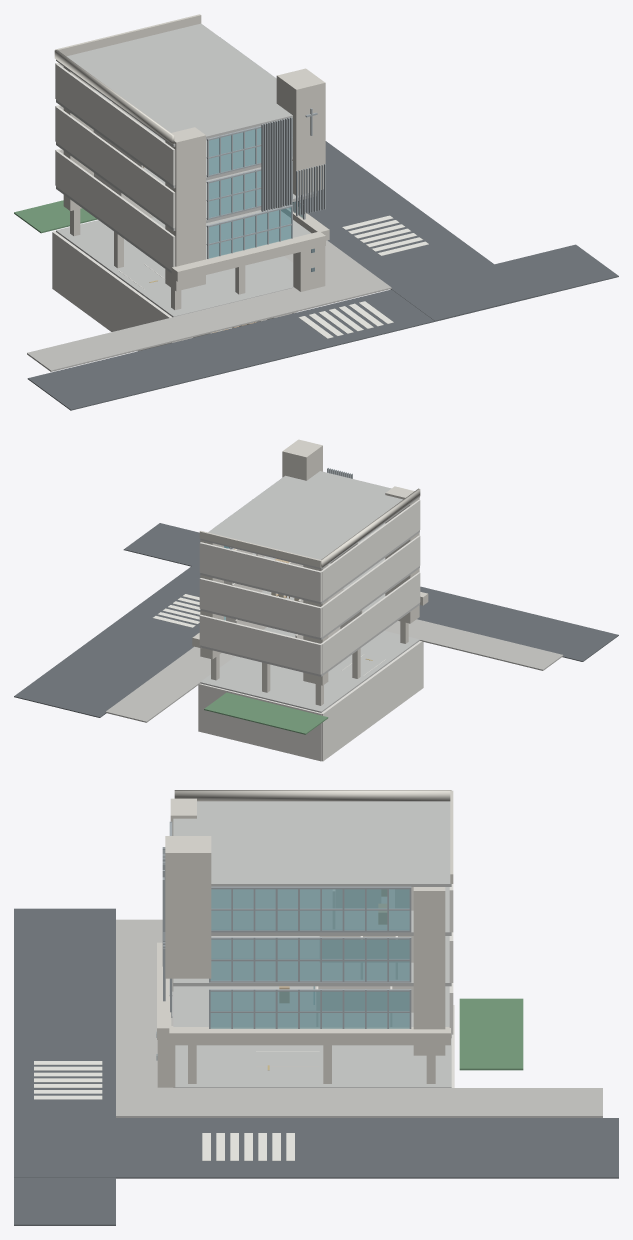
The model's file is mdcc.glb.
The picture shows the model from 3 angles, top to bottom: view 1: azimuth 30°, elevation 25°; view 2: azimuth 150°, elevation 25°; view 3: azimuth 270°, elevation 25°; orthographic projection. The views are drawn at different scales.
Parts seen in each view (by area): view 1: ROAD_FRONT, ROAD_RIGHT, ROOF_MAIN, SIDEWALK_FRONT, F1_PARKING_GROUND, B1_WEST_WALL, WEST_STONE_PIER, F4_WEST_EDGE, F3_WEST_EDGE, F2_WEST_EDGE, CROSS_TOWER_CORNER, F2_STRUCTURAL_SLAB (+11 smaller); view 2: ROAD_RIGHT, ROOF_MAIN, ROAD_FRONT, F1_PARKING_GROUND, B1_WEST_WALL, F2_BACK_PARAPET, F3_BACK_PARAPET, F4_BACK_PARAPET, B1_BACK_WALL, SIDEWALK_RIGHT, SIDEWALK_FRONT, F3_WEST_EDGE (+11 smaller); view 3: ROAD_RIGHT, ROAD_FRONT, ROOF_MAIN, SIDEWALK_RIGHT, F1_PARKING_GROUND, SIDEWALK_FRONT, F3_RIGHT_GLASS_GLASS, F4_RIGHT_GLASS_GLASS, F3_STRUCTURAL_SLAB, F2_RIGHT_GLASS_GLASS, F4_STRUCTURAL_SLAB, CROSS_TOWER_CORNER (+17 smaller).
Part boxes in pixels (<box>): ROAD_FRONT: <box>27,244,618,410</box>; ROAD_RIGHT: <box>293,141,536,321</box>; ROOF_MAIN: <box>56,23,292,146</box>; SIDEWALK_FRONT: <box>27,270,391,371</box>; F1_PARKING_GROUND: <box>56,220,293,317</box>; B1_WEST_WALL: <box>52,231,174,351</box>; WEST_STONE_PIER: <box>165,127,205,291</box>; F4_WEST_EDGE: <box>56,64,175,185</box>; F3_WEST_EDGE: <box>56,107,175,228</box>; F2_WEST_EDGE: <box>56,150,175,270</box>; CROSS_TOWER_CORNER: <box>276,68,325,195</box>; F2_STRUCTURAL_SLAB: <box>56,186,311,273</box>; ROAD_RIGHT: <box>14,546,233,717</box>; ROOF_MAIN: <box>200,471,419,569</box>; ROAD_FRONT: <box>123,523,618,661</box>; F1_PARKING_GROUND: <box>200,631,419,712</box>; B1_WEST_WALL: <box>321,641,423,761</box>; F2_BACK_PARAPET: <box>199,614,321,674</box>; F3_BACK_PARAPET: <box>199,578,321,637</box>; F4_BACK_PARAPET: <box>199,542,321,602</box>; B1_BACK_WALL: <box>198,683,321,761</box>; SIDEWALK_RIGHT: <box>105,646,235,722</box>; SIDEWALK_FRONT: <box>384,619,563,670</box>; F3_WEST_EDGE: <box>321,535,420,637</box>; ROAD_RIGHT: <box>14,1118,618,1178</box>; ROAD_FRONT: <box>14,908,115,1225</box>; ROOF_MAIN: <box>173,801,451,886</box>; SIDEWALK_RIGHT: <box>173,1088,602,1117</box>; F1_PARKING_GROUND: <box>173,1038,451,1087</box>; SIDEWALK_FRONT: <box>116,919,173,1117</box>; F3_RIGHT_GLASS_GLASS: <box>210,939,409,980</box>; F4_RIGHT_GLASS_GLASS: <box>211,889,409,930</box>; F3_STRUCTURAL_SLAB: <box>173,936,451,986</box>; F2_RIGHT_GLASS_GLASS: <box>210,991,409,1028</box>; F4_STRUCTURAL_SLAB: <box>211,887,451,935</box>; CROSS_TOWER_CORNER: <box>165,836,211,978</box>.
Size of the model in its own units: 47 by 21.18 by 38.
